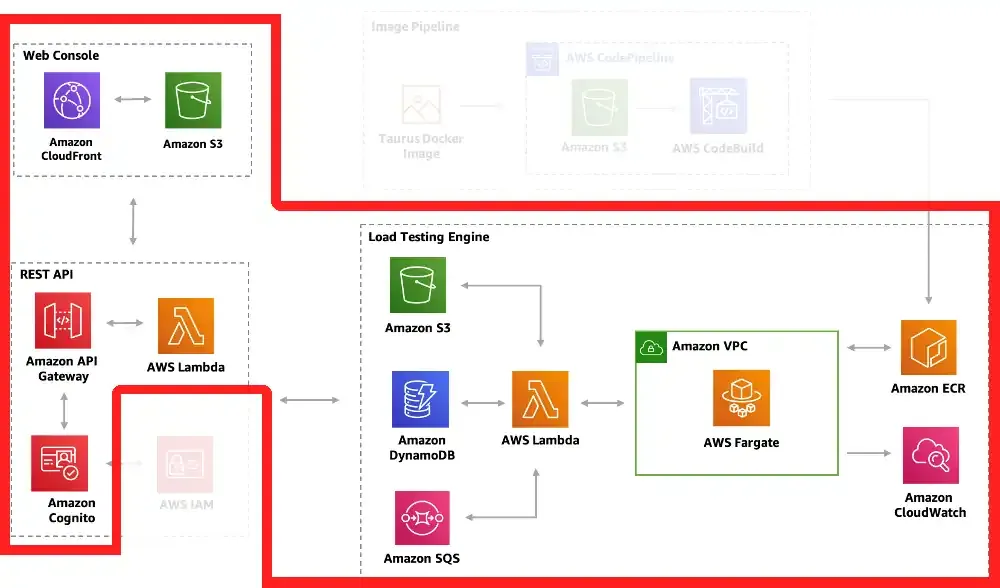api gateway: (35, 294, 90, 349)
cloudfront: (44, 74, 100, 128)
cloudwatch: (904, 428, 959, 484)
cognito: (32, 436, 86, 491)
dynamodb: (394, 371, 448, 429)
ecr: (902, 321, 956, 375)
fargate: (715, 370, 770, 425)
lambda: (159, 298, 214, 354), (512, 372, 567, 428)
s3: (390, 258, 446, 314), (166, 74, 220, 127)
sqs: (396, 494, 448, 546)
vpc: (636, 333, 665, 361)
